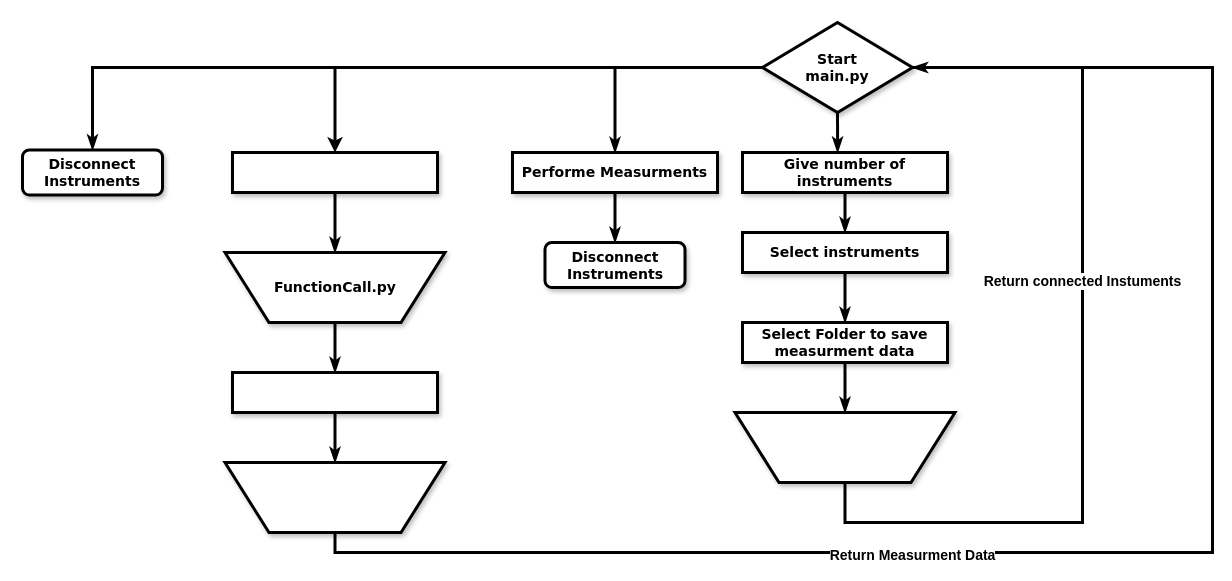
The diagram is 1232 pixels wide and 581 high, and some of its shapes have lost their labels. Each missing label, with the centre of its shape:
"Functions.py" belongs at point 335,498.
"InstrumentSelect.py" belongs at point 845,448.
"Select function from list" belongs at point 335,393.
"Use Pre-Programmed Measurment Functions" belongs at point 335,173.
